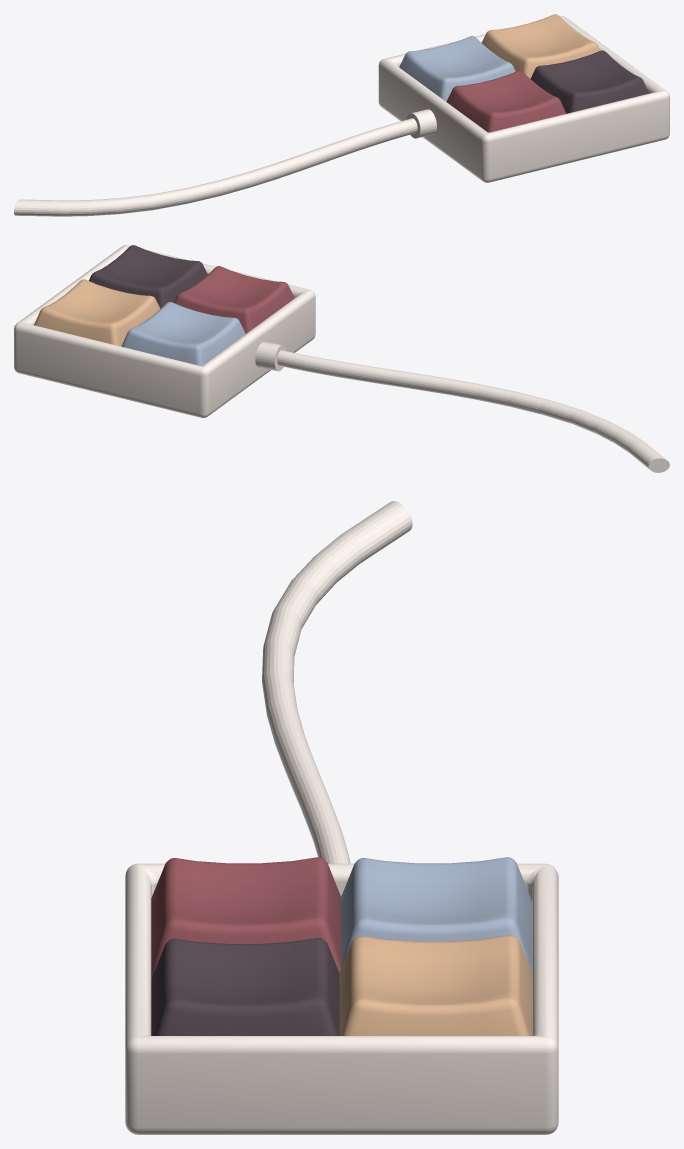
Rendered from 4-button-key.glb.
3 renders of one model, top to bottom at view 1: azimuth 30°, elevation 25°; view 2: azimuth 150°, elevation 25°; view 3: azimuth 270°, elevation 25°, orthographic. The views are drawn at different scales.
Parts seen in each view (by area): view 1: Base, Cable, Key.1, Key.3, Key.4, Key.2, Connection; view 2: Base, Cable, Key.4, Key.2, Key.1, Key.3, Connection; view 3: Base, Key.4, Key.3, Key.1, Key.2, Cable.
Part boxes in pixels (x1,y1,x2,y2): Base: (378, 16, 669, 182); Cable: (14, 118, 417, 216); Key.1: (446, 70, 566, 132); Key.3: (530, 50, 648, 113); Key.4: (481, 14, 599, 78); Key.2: (399, 36, 515, 101); Connection: (406, 109, 436, 138); Base: (14, 245, 315, 417); Cable: (277, 350, 669, 472); Key.4: (34, 279, 160, 346); Key.2: (121, 302, 245, 365); Key.1: (174, 266, 294, 333); Key.3: (89, 245, 207, 308); Connection: (255, 342, 286, 371); Base: (125, 863, 558, 1134); Key.4: (339, 935, 532, 1035); Key.3: (151, 938, 339, 1035); Key.1: (151, 857, 341, 978); Key.2: (341, 857, 532, 973); Cable: (262, 501, 412, 863).
Bounding box in the file's own units: 14.23 × 1.38 × 4.5.
